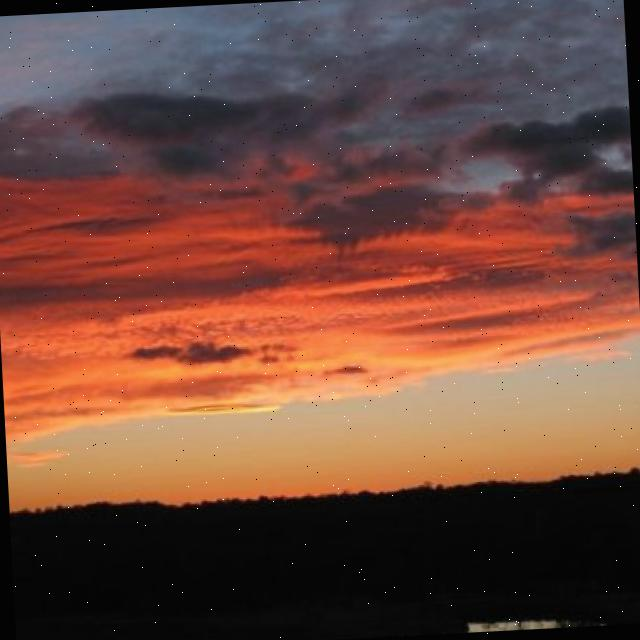As: (1, 3, 640, 466)
